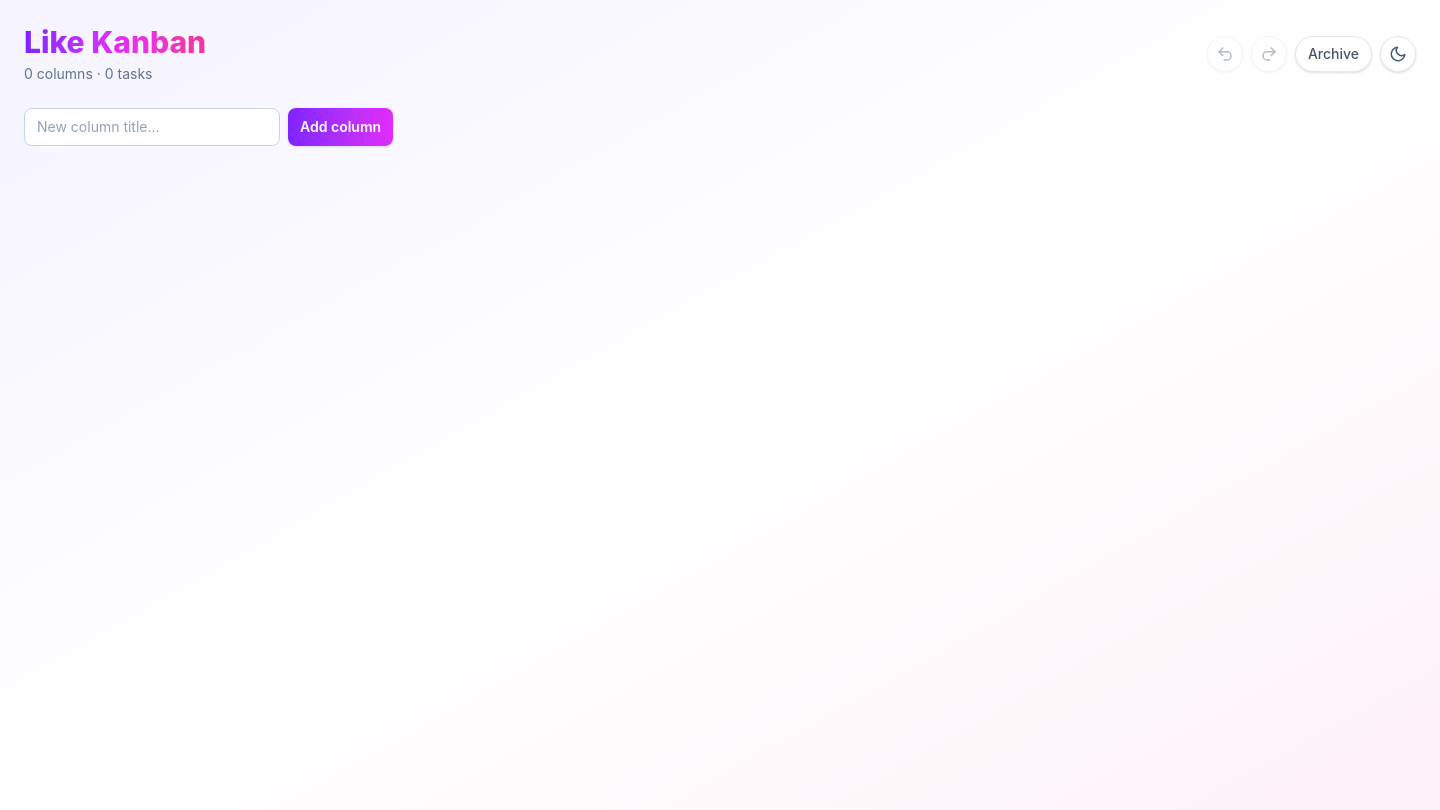
Scenario: KanbanBoard › adds a column via the form
Type "To do" into the field labelled "New column title".
click(152, 127); type("To do")  # box [24,108,280,146]
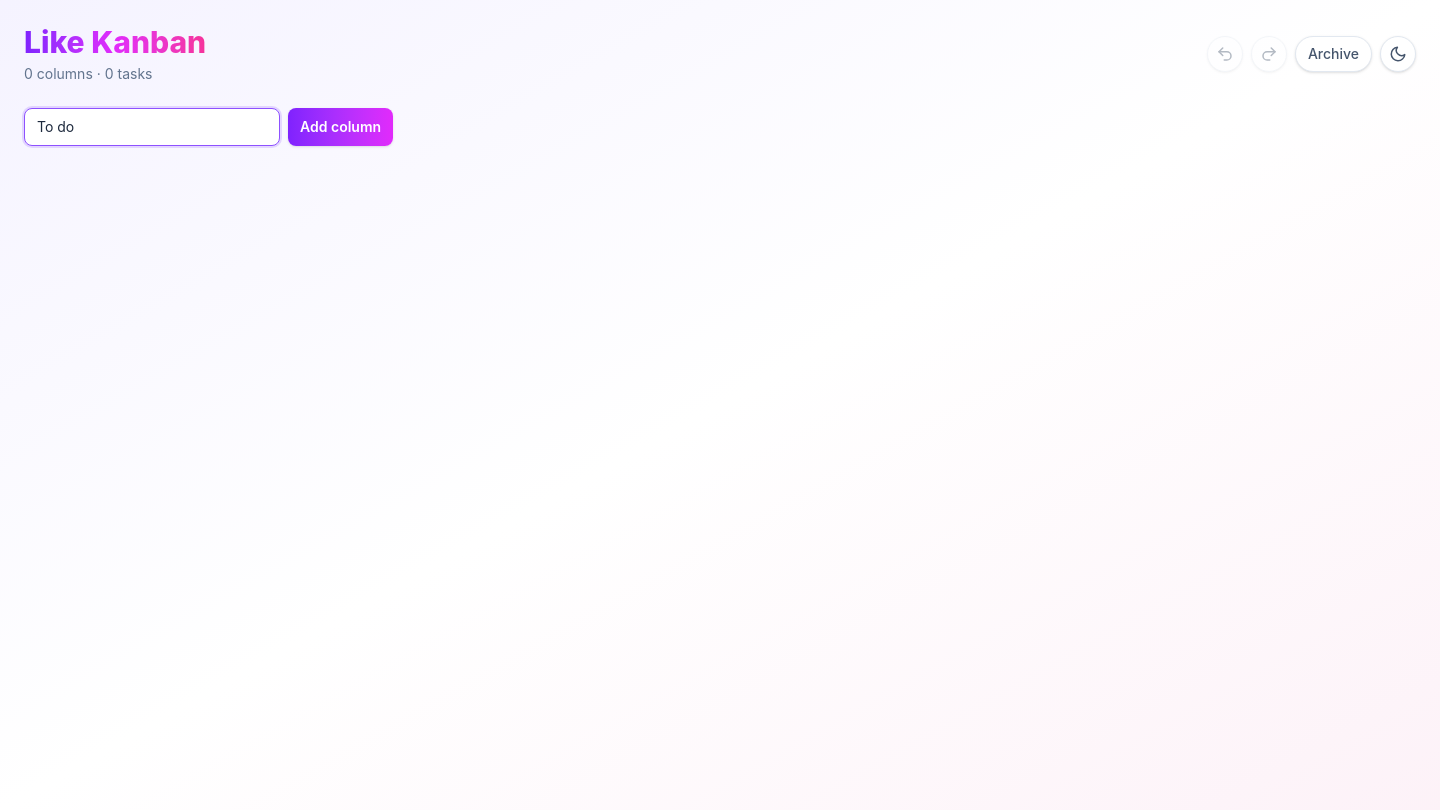
Click the button "Add column".
click(341, 127)  # box [288,108,393,146]
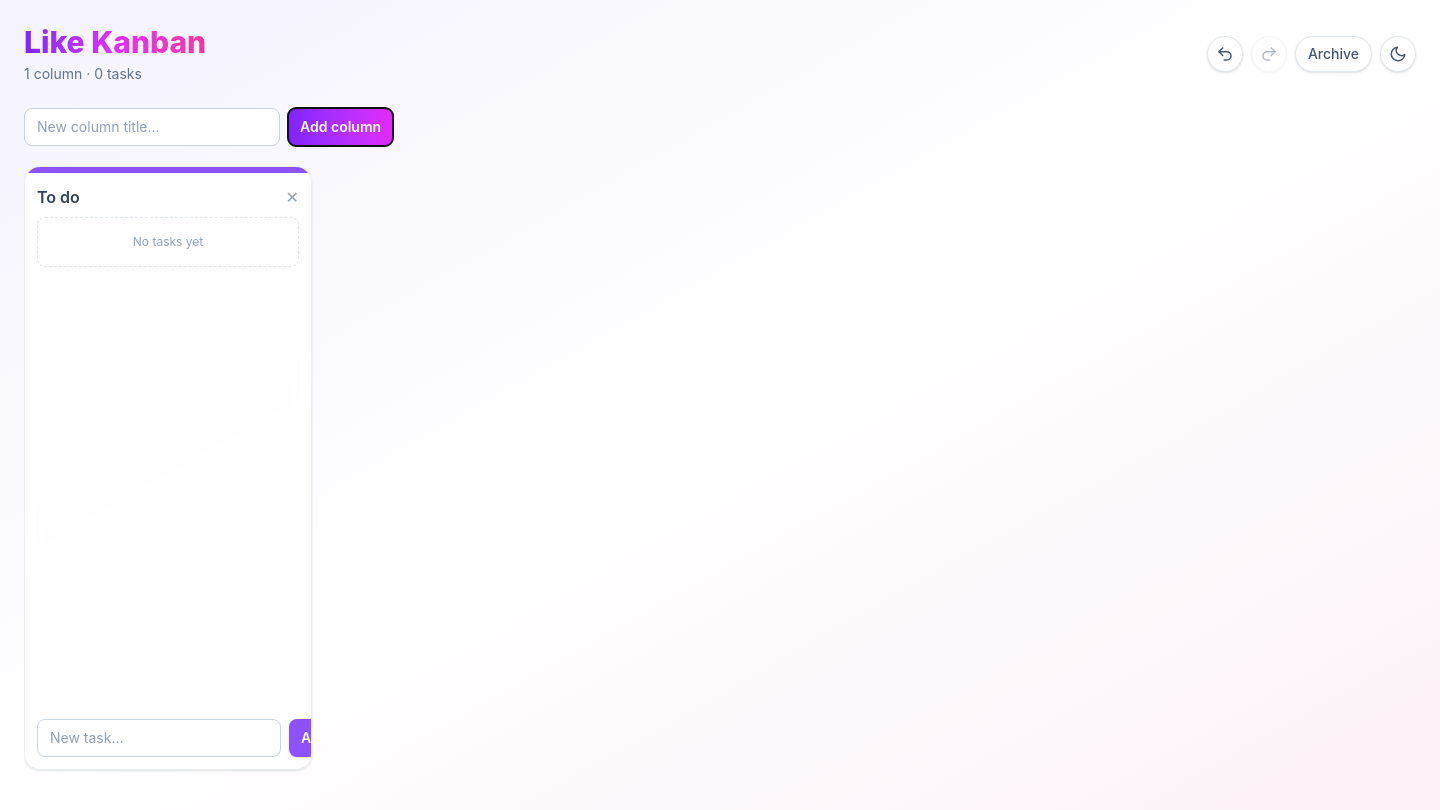
Expected: the button "To do" is shown, [37,185,80,209]
